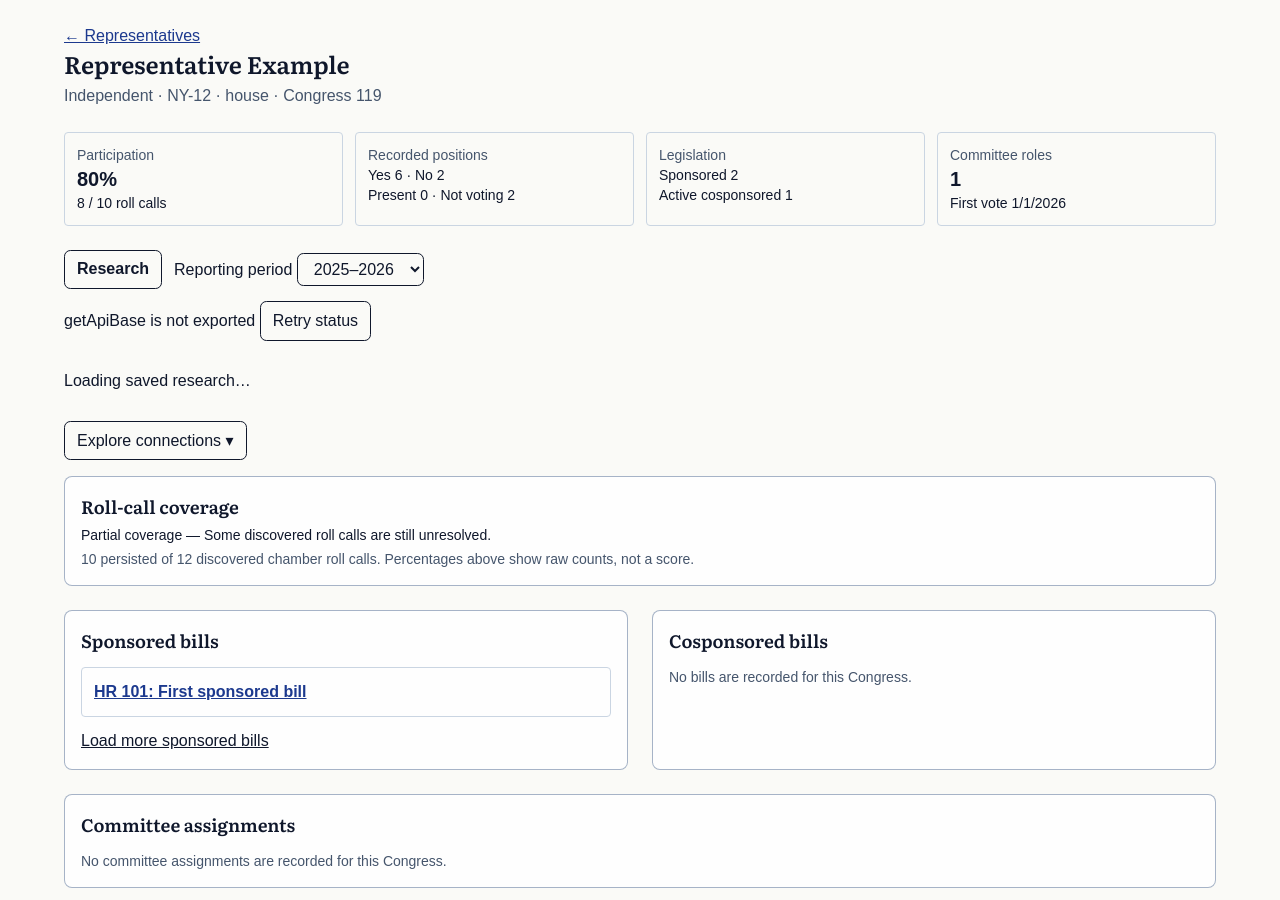
Test: RepresentativeDetailPage › prevents a second sponsored-history request while the next page is loading
Click the button "Load more sponsored bills". click: [175, 741]
box: [81,729,269,753]
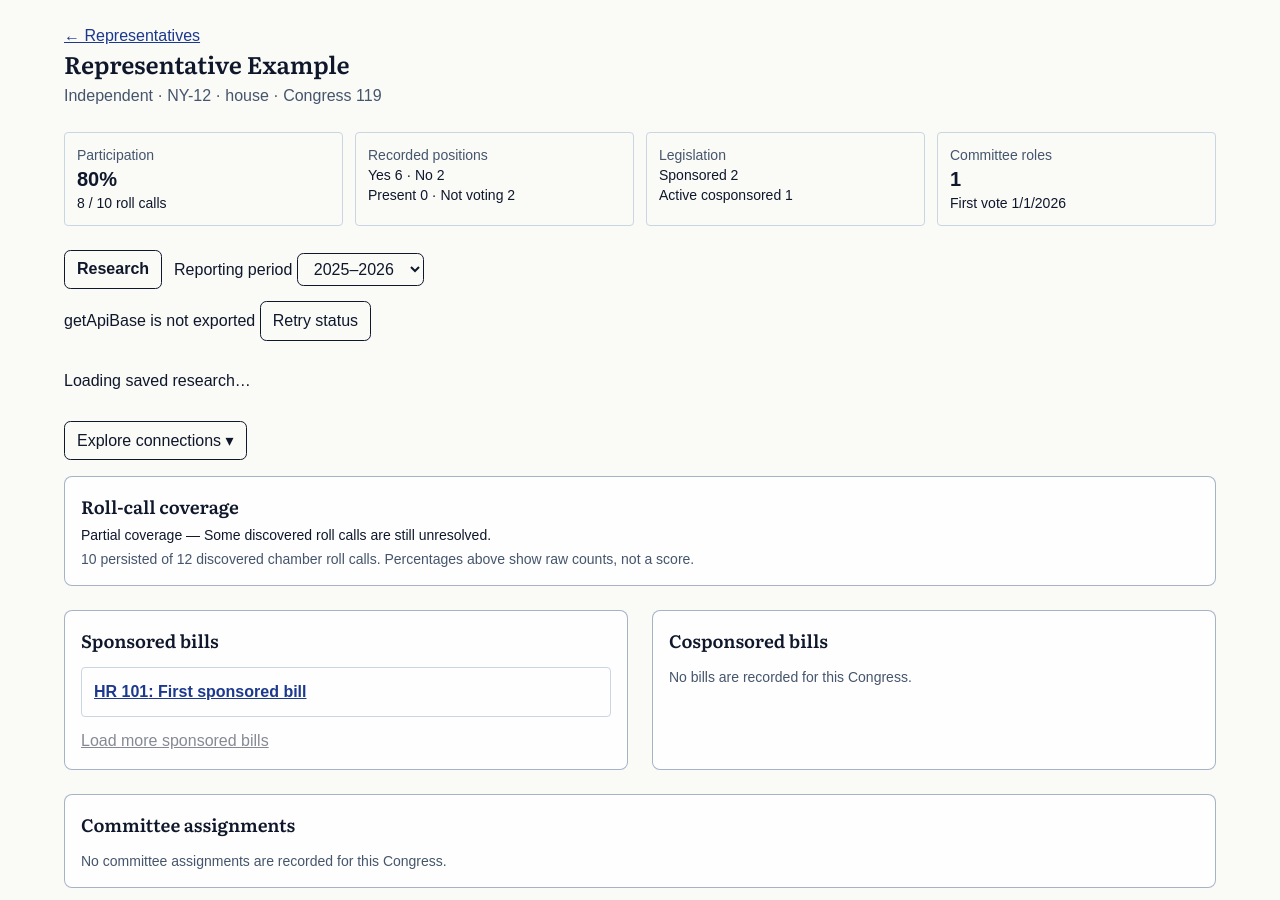
Expected: the button "Load more sponsored bills" is disabled
Click the button "Load more sponsored bills". click: [175, 741]
box: [81,729,269,753]
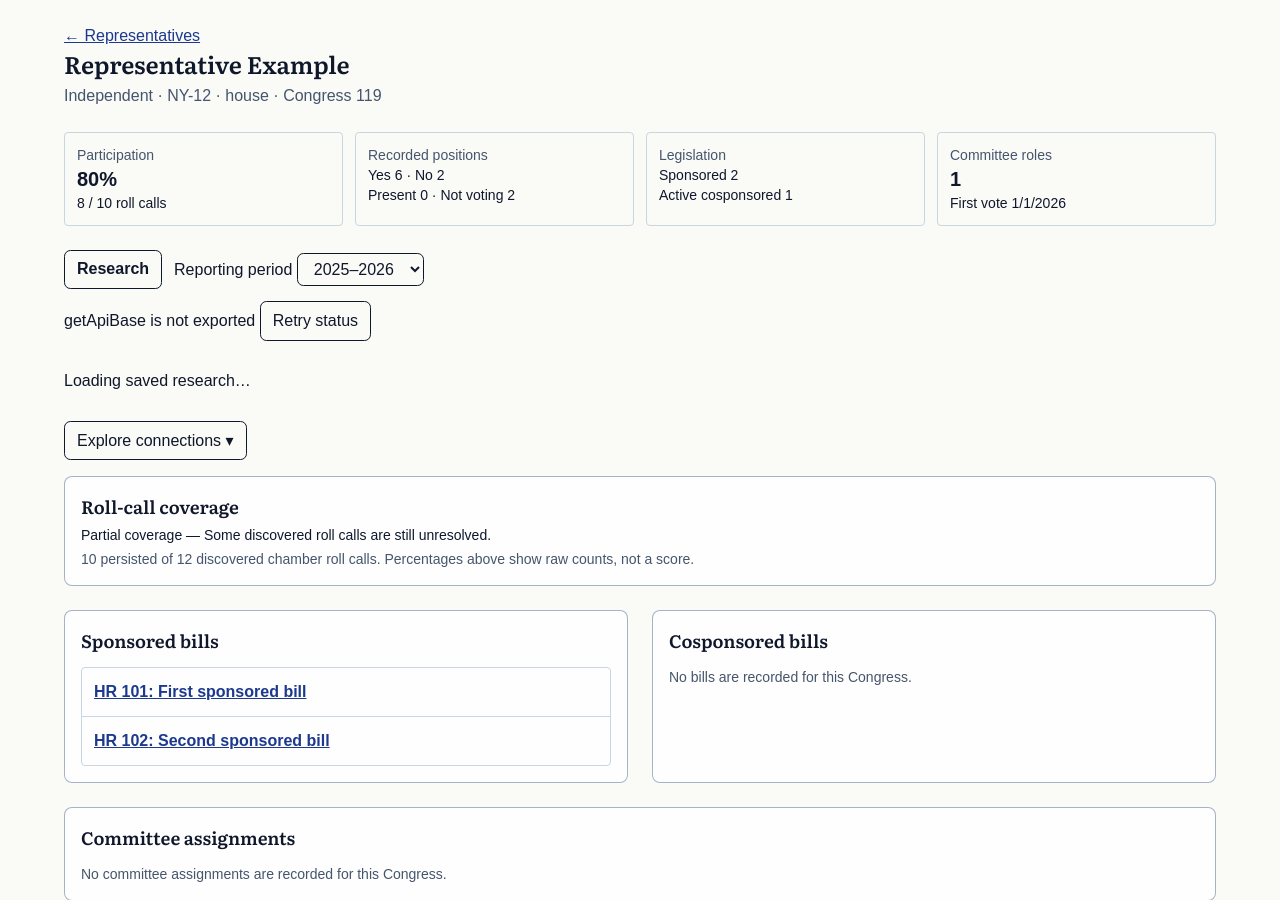
Expected: the link "HR 102: Second sponsored bill" is shown, [94,732,330,749]
